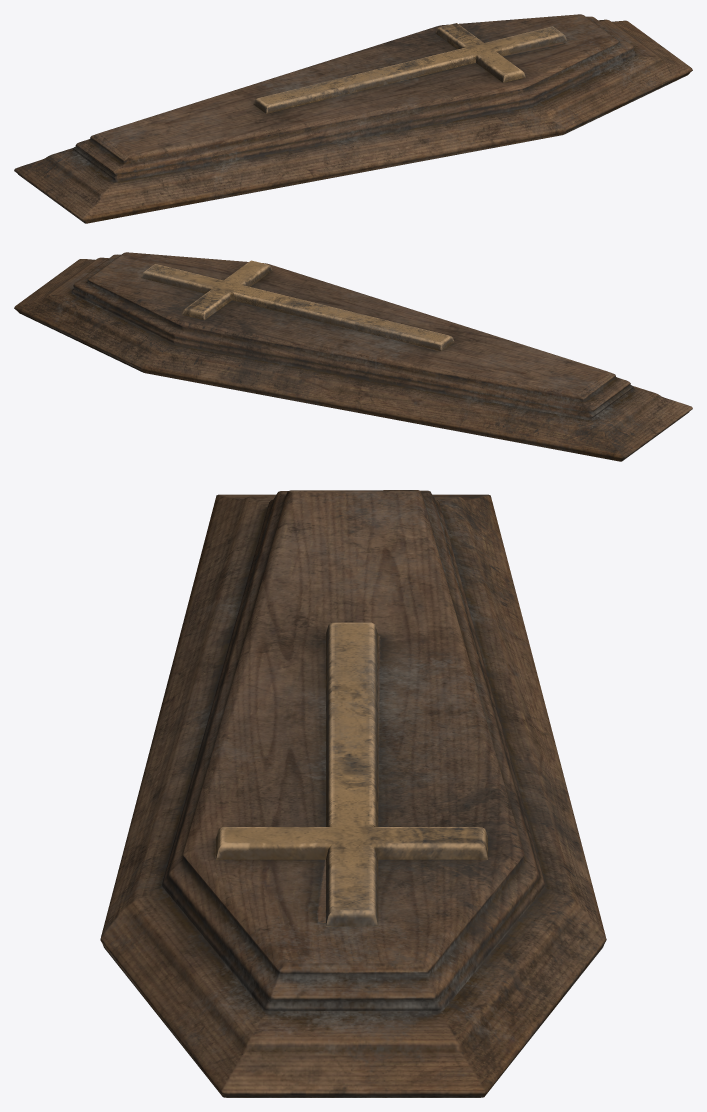
File: sm_Coffin_01_03.fbx
The picture shows the model from 3 angles, top to bottom: view 1: azimuth 30°, elevation 25°; view 2: azimuth 150°, elevation 25°; view 3: azimuth 270°, elevation 25°; orthographic projection. The views are drawn at different scales.
Parts seen in each view (by area): view 1: sm_Coffin_01_03_LOD0; view 2: sm_Coffin_01_03_LOD0; view 3: sm_Coffin_01_03_LOD0.
Part boxes in pixels (x1,y1,x2,y2): sm_Coffin_01_03_LOD0: (14, 14, 692, 223); sm_Coffin_01_03_LOD0: (14, 252, 692, 461); sm_Coffin_01_03_LOD0: (100, 490, 606, 1097).
Size of the model in its own units: 224 by 80.01 by 16.06.
